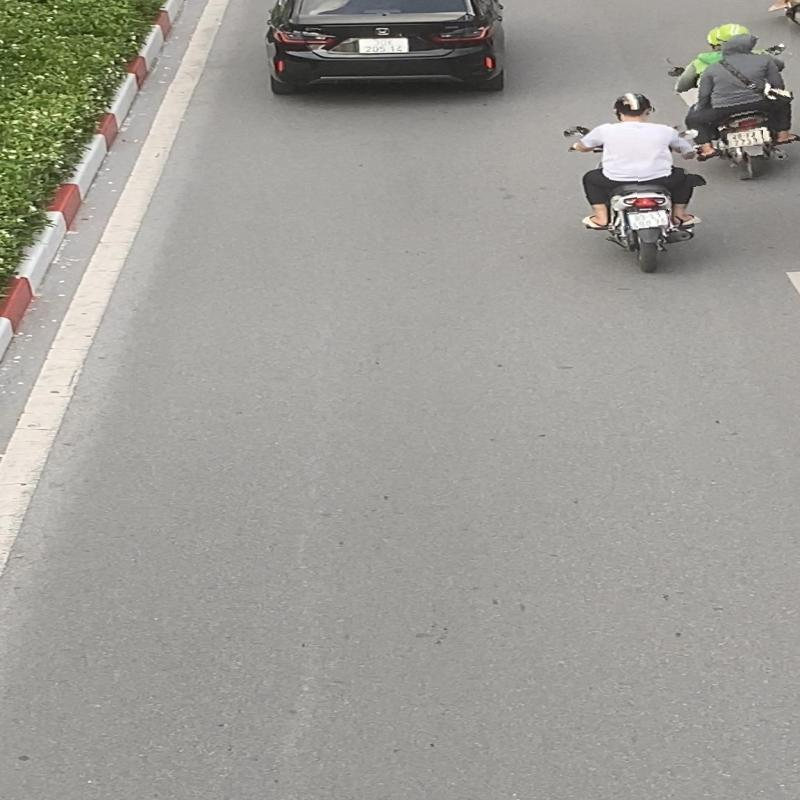helmet: (612, 92, 653, 120), (717, 22, 752, 44)
licenseplate: (628, 210, 669, 229), (728, 130, 764, 148)
motorcyclist: (566, 91, 708, 274), (667, 19, 800, 183)
